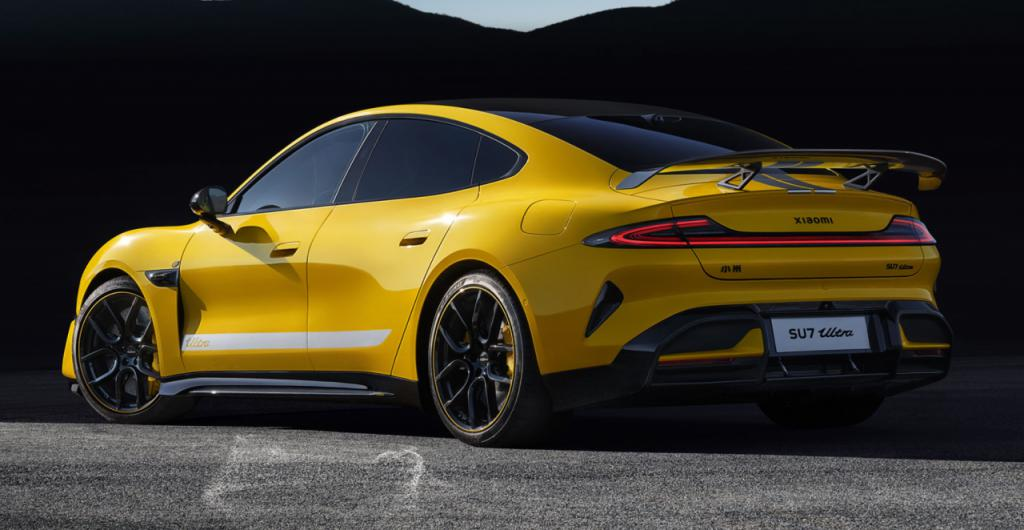su7: (65, 94, 968, 450)
